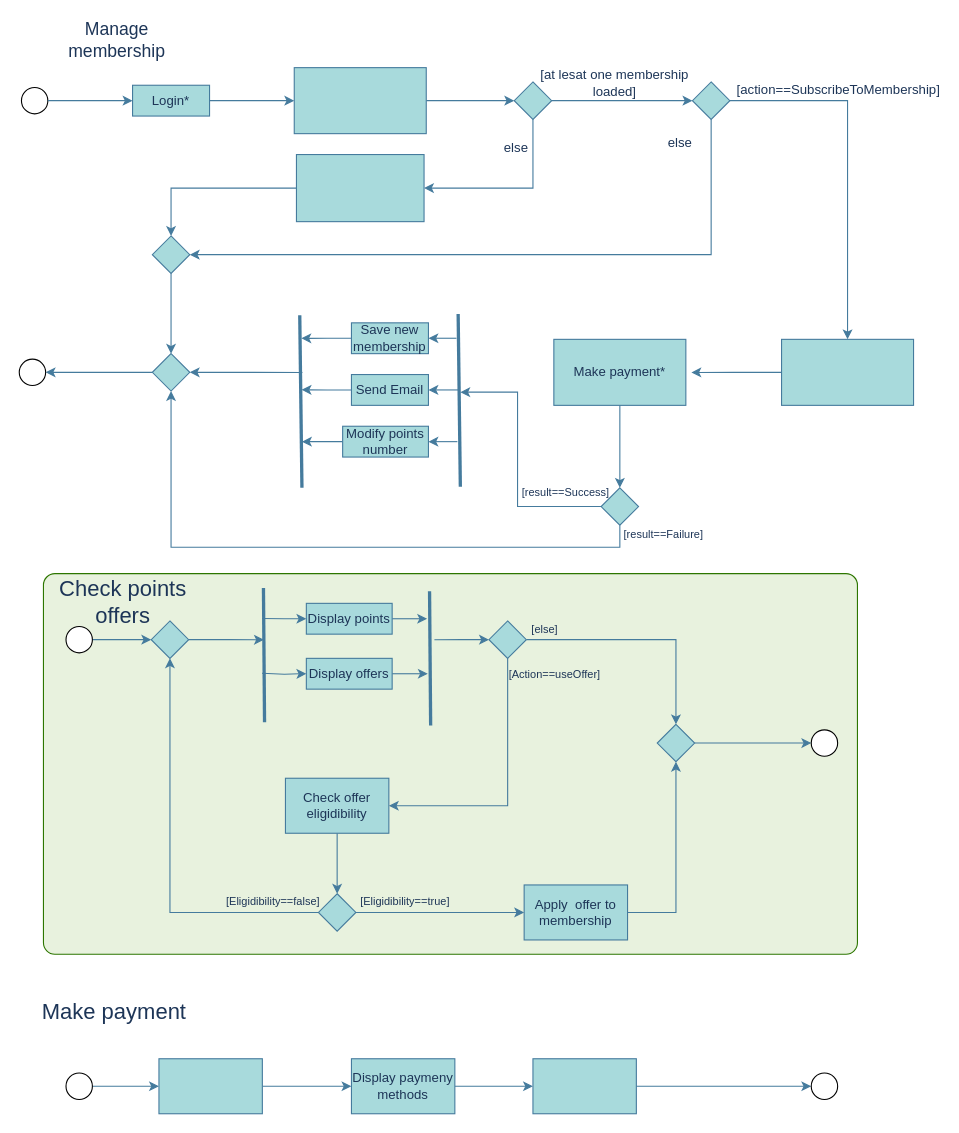
This 959x1133 diagram has some shape labels left out. Each missing label, with the centre of its shape:
"Check points offers*" belongs at [847,371].
"DIsplay available memberships" belongs at [359,100].
"Display error message" belongs at [359,187].
"Display order details" belongs at [210,1086].
"use payment method" belongs at [584,1086].
